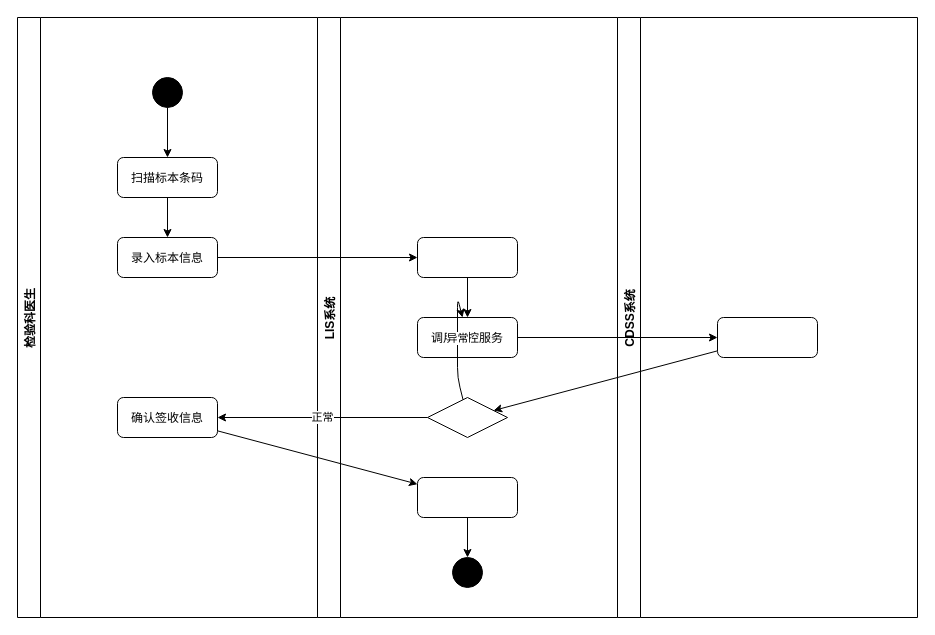
Some shapes in this 935 by 635 pixel diagram are drawn without their labels. The shapes that lost their labels are listed below. From the top down, each one's centre as x and y in pixels, then its label:
At (467,257): "验证标本信息".
At (767,337): "执行质控检查".
At (467,417): "质控结果?".
At (467,497): "记录签收信息".
